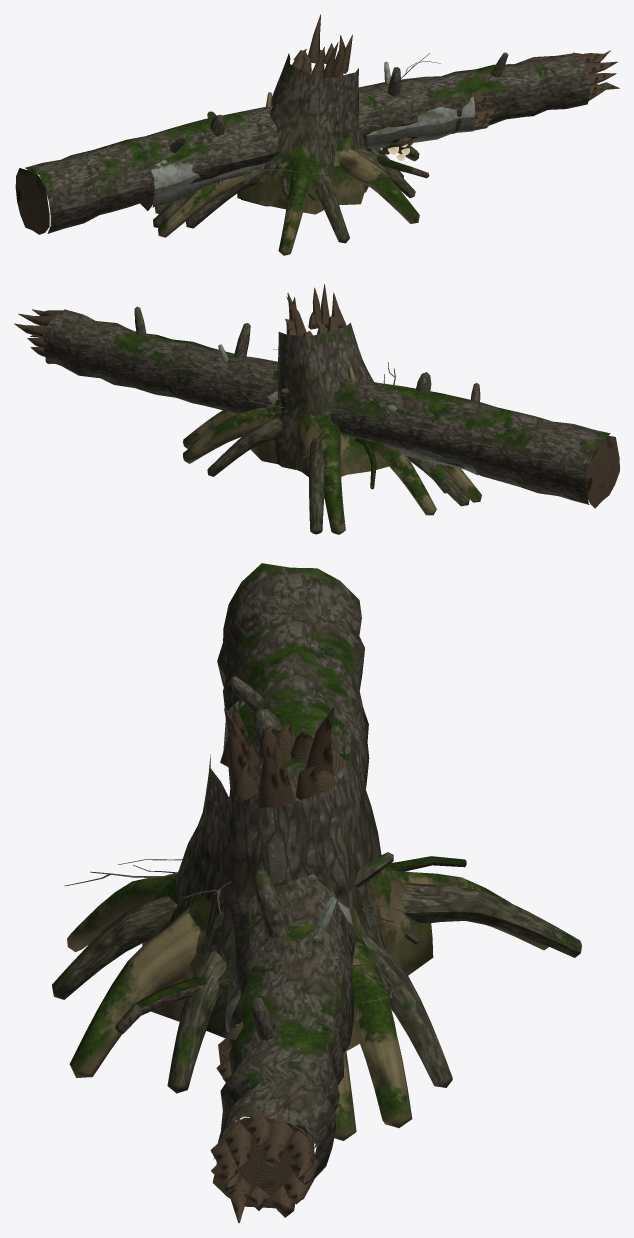
Rendered from env_wood.glb.
3 views of the same model, one above another, from view 1: azimuth 30°, elevation 25°; view 2: azimuth 150°, elevation 25°; view 3: azimuth 270°, elevation 25° (orthographic). The views are drawn at different scales.
Visible parts, largest first — view 1: LOG_Fallen_Large, STUMP_Broken_Snag, STUMP_Rotten_Low, LOG_Hollow_Mossy, ROOT_Exposed_Cluster, BRANCH_Fallen_Forked; view 2: LOG_Fallen_Large, STUMP_Broken_Snag, STUMP_Rotten_Low, LOG_Hollow_Mossy, ROOT_Exposed_Cluster; view 3: LOG_Fallen_Large, STUMP_Broken_Snag, STUMP_Rotten_Low, ROOT_Exposed_Cluster, LOG_Hollow_Mossy, BRANCH_Fallen_Forked.
Part boxes in pixels (x1,y1,x2,y2): LOG_Fallen_Large: (15, 50, 619, 234); STUMP_Broken_Snag: (153, 14, 415, 243); STUMP_Rotten_Low: (155, 135, 419, 255); LOG_Hollow_Mossy: (140, 61, 499, 210); ROOT_Exposed_Cluster: (281, 147, 429, 200); BRANCH_Fallen_Forked: (248, 53, 440, 192); LOG_Fallen_Large: (14, 306, 619, 508); STUMP_Broken_Snag: (207, 284, 469, 534); STUMP_Rotten_Low: (183, 400, 481, 534); LOG_Hollow_Mossy: (218, 344, 481, 475); ROOT_Exposed_Cluster: (302, 437, 376, 489); LOG_Fallen_Large: (210, 563, 393, 1222); STUMP_Broken_Snag: (52, 705, 581, 1093); STUMP_Rotten_Low: (67, 865, 548, 1140); ROOT_Exposed_Cluster: (115, 856, 466, 1033); LOG_Hollow_Mossy: (216, 701, 358, 1082); BRANCH_Fallen_Forked: (64, 859, 412, 1002).
Bounding box in the file's own units: 8.01 × 2.26 × 3.19.
8 materials, 8 textured.
